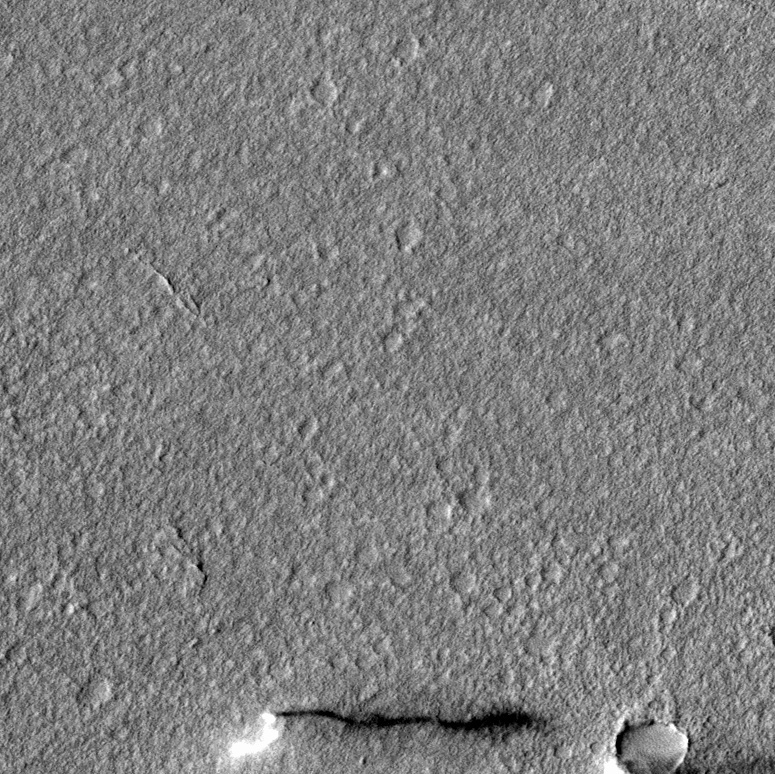dust_devil: (219, 701, 548, 769), (596, 746, 775, 774)
